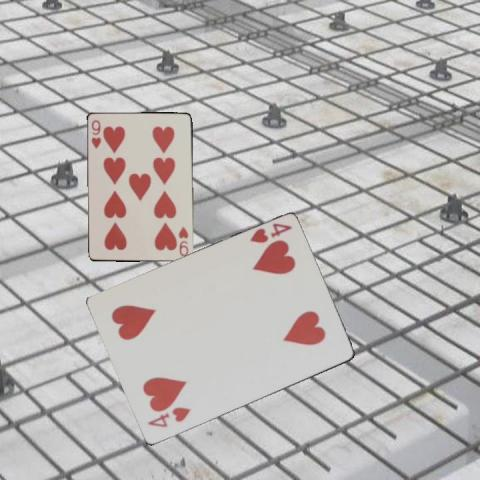4h: (145, 405, 192, 429), (247, 221, 293, 245)
9h: (176, 224, 190, 258), (88, 117, 102, 150)
